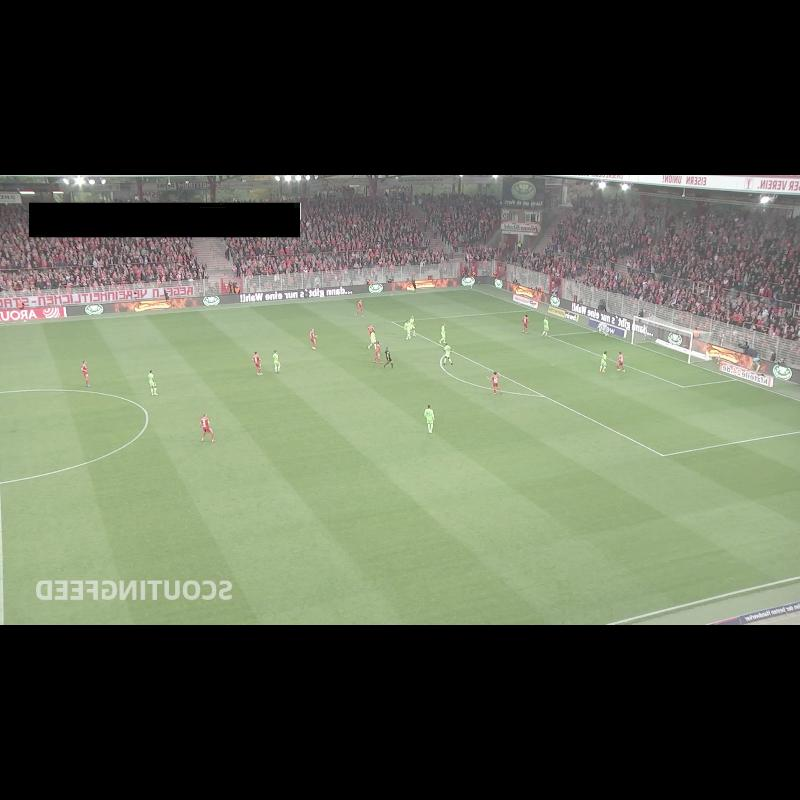cross_recipient_zone: (392, 310, 800, 456)
crossing_player_zone: (506, 431, 800, 606), (250, 289, 533, 331)
pitch: (0, 289, 800, 625)
